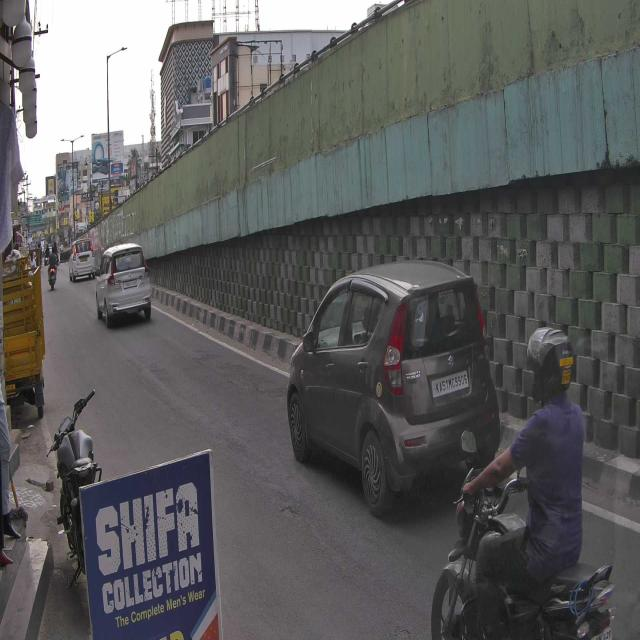single_rider: (431, 322, 614, 640)
